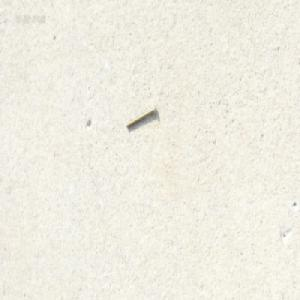Bolt: (125, 103, 156, 128)
